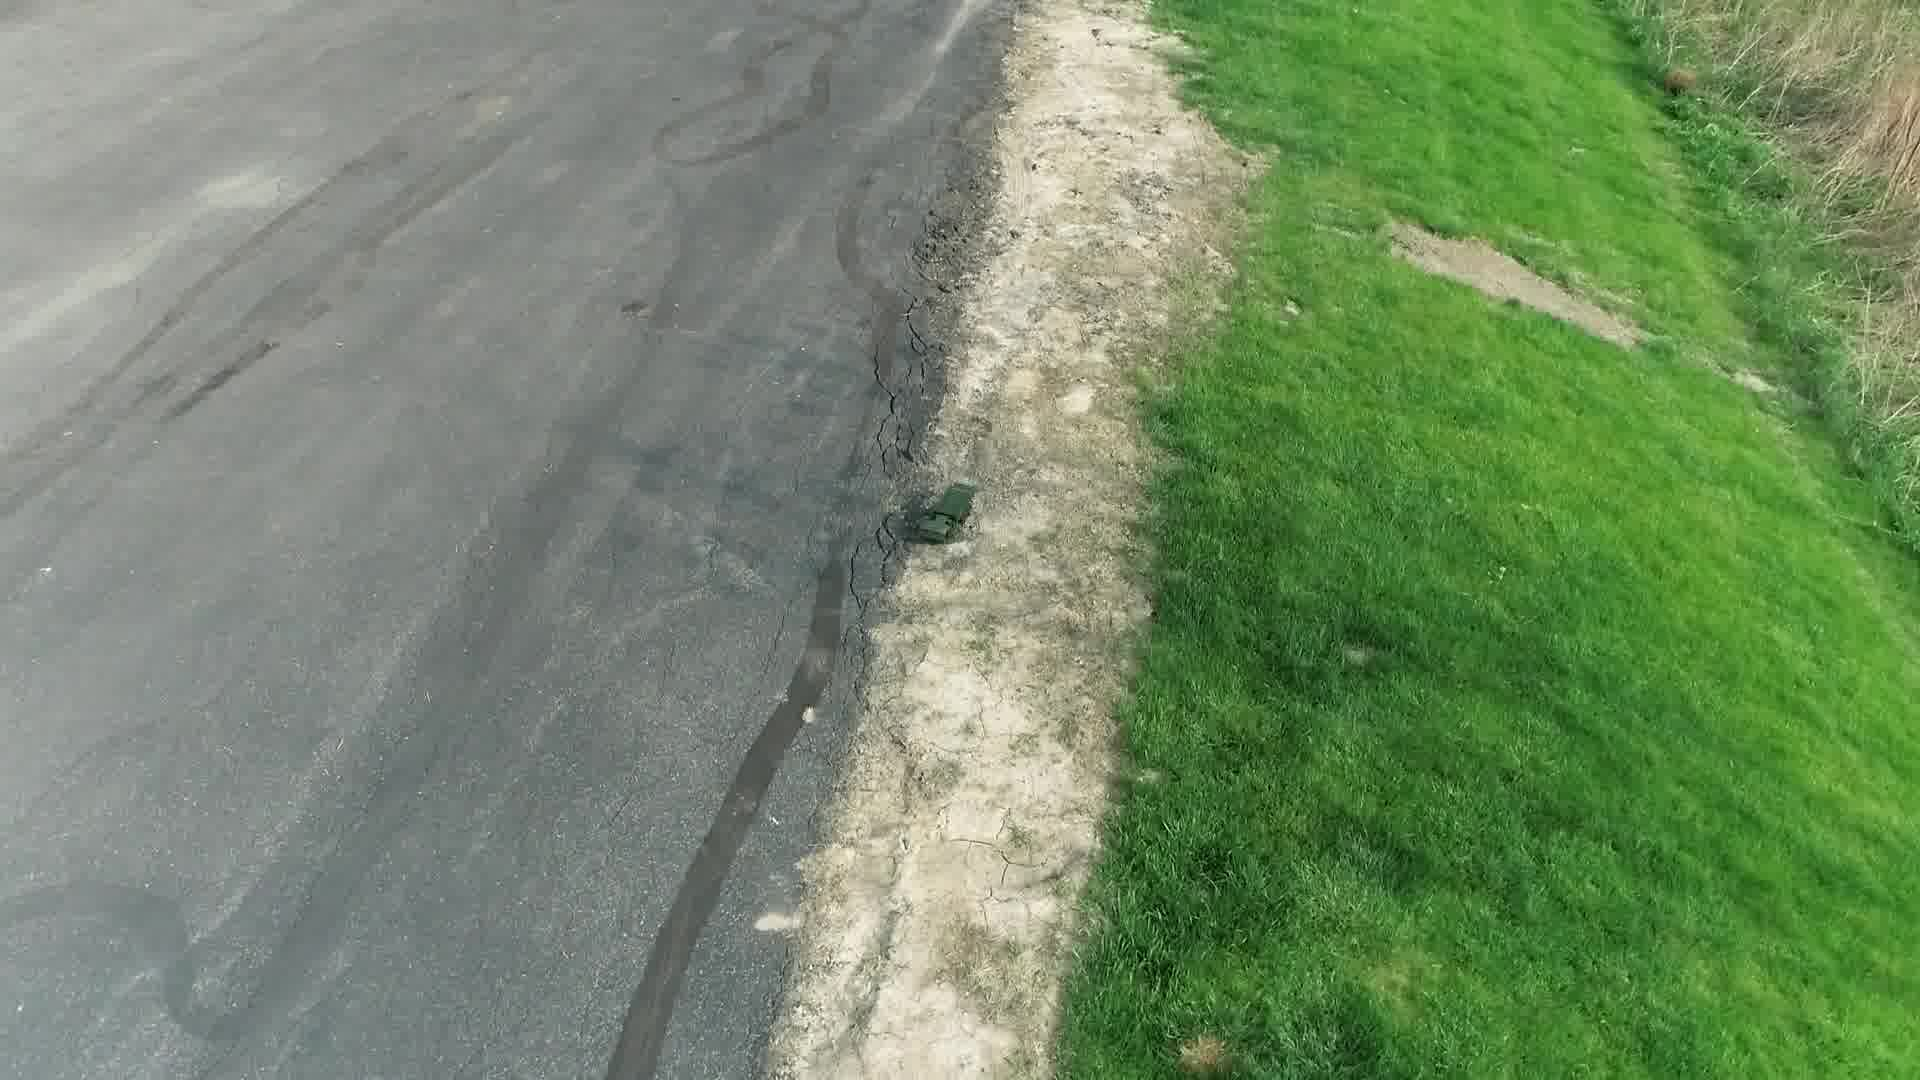transporter9: (913, 479, 982, 545)
